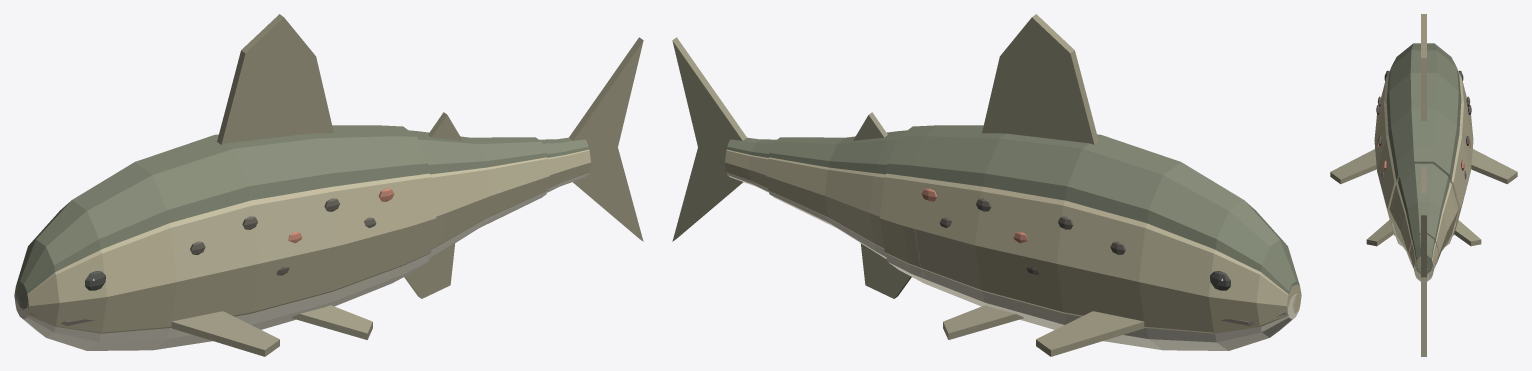
The model's file is fish.glb.
3 renders of one model, left to right at view 1: azimuth 30°, elevation 25°; view 2: azimuth 150°, elevation 25°; view 3: azimuth 270°, elevation 25°, orthographic. The views are drawn at different scales.
Parts seen in each view (by area): view 1: Front_Flank, Front_Back, body_fin, Caudal_Fin, Mid_Flank, Front_Belly, Mid_Back, Pectoral_-1, tail_fin, End_Flank, Mid_Belly, End_Back (+1 smaller); view 2: Front_Flank, Front_Back, body_fin, Caudal_Fin, Mid_Flank, Front_Belly, Mid_Back, Pectoral_1, tail_fin, End_Flank, Mid_Belly, End_Back (+1 smaller); view 3: Front_Back, Front_Flank, Mid_Back, Mid_Flank, body_fin, Pectoral_-1, Pectoral_1, Caudal_Fin, End_Back, End_Flank, body_spot, tail_fin.
Boxes of the visible parts, <box> form: Front_Flank: <box>14,173,436,333</box>; Front_Back: <box>15,125,429,309</box>; body_fin: <box>217,14,372,339</box>; Caudal_Fin: <box>569,37,643,241</box>; Mid_Flank: <box>394,157,549,268</box>; Front_Belly: <box>15,253,429,350</box>; Mid_Back: <box>409,130,546,174</box>; Pectoral_-1: <box>171,311,279,356</box>; tail_fin: <box>404,112,462,298</box>; End_Flank: <box>547,149,590,188</box>; Mid_Belly: <box>391,191,546,279</box>; End_Back: <box>539,137,589,157</box>; Front_Flank: <box>879,173,1301,333</box>; Front_Back: <box>886,125,1299,293</box>; body_fin: <box>943,14,1098,339</box>; Caudal_Fin: <box>672,37,746,241</box>; Mid_Flank: <box>766,157,921,268</box>; Front_Belly: <box>886,253,1299,350</box>; Mid_Back: <box>769,130,906,174</box>; Pectoral_1: <box>1036,311,1144,356</box>; tail_fin: <box>853,112,911,298</box>; End_Flank: <box>725,149,768,188</box>; Mid_Belly: <box>769,191,927,281</box>; End_Back: <box>726,137,776,157</box>; Front_Back: <box>1386,43,1461,196</box>; Front_Flank: <box>1374,70,1473,237</box>; Mid_Back: <box>1398,163,1449,247</box>; Mid_Flank: <box>1383,182,1464,264</box>; body_fin: <box>1366,14,1481,246</box>; Pectoral_-1: <box>1330,149,1376,184</box>; Pectoral_1: <box>1471,149,1517,184</box>; Caudal_Fin: <box>1421,215,1426,356</box>; End_Back: <box>1413,234,1434,273</box>; End_Flank: <box>1409,242,1438,280</box>; body_spot: <box>1376,96,1471,178</box>; tail_fin: <box>1421,167,1426,193</box>.
Bounding box in the file's own units: 0.193 × 0.094 × 0.072.
